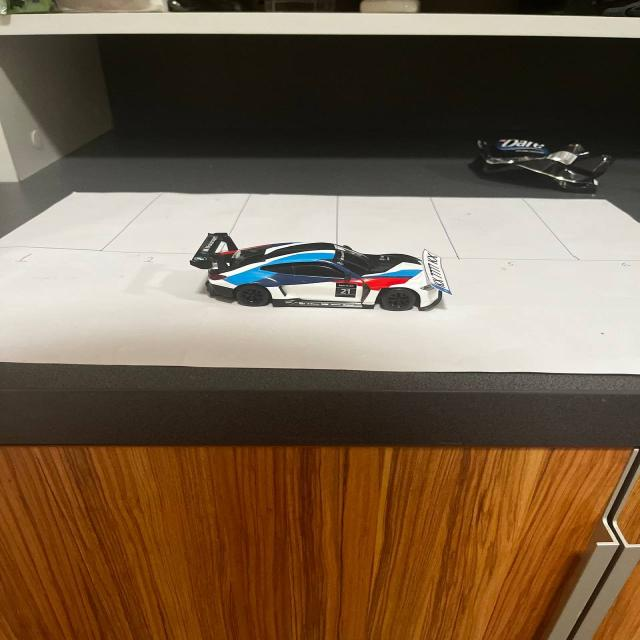KX 7777 KX: (423, 246, 457, 293)
